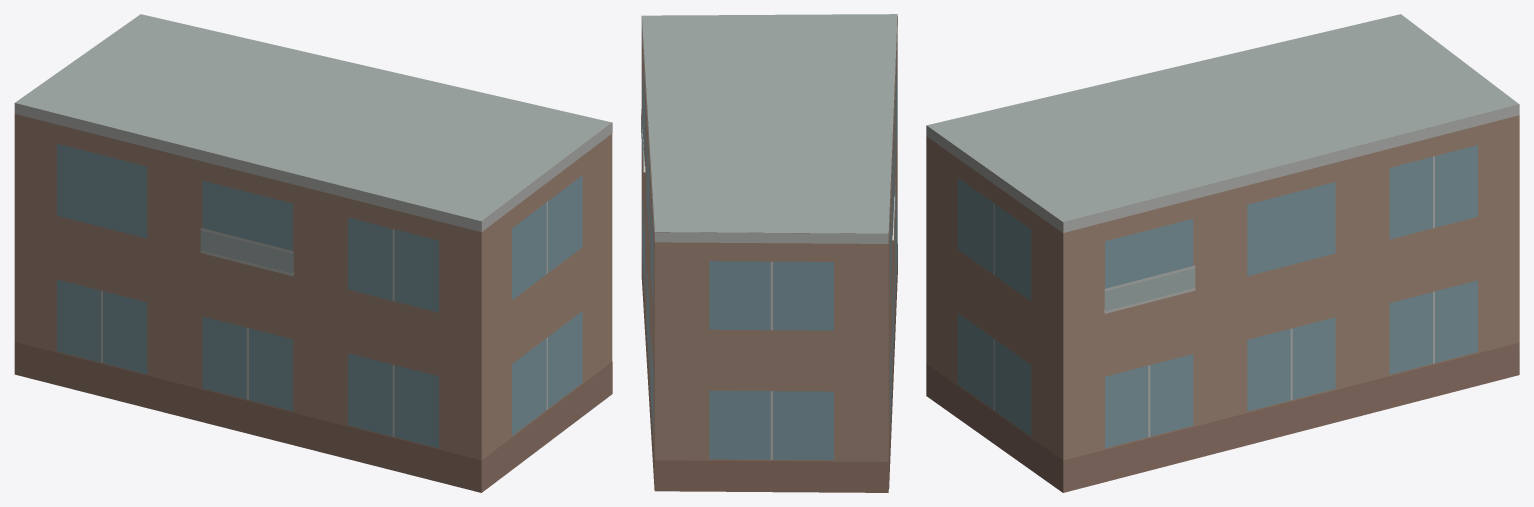
The model's file is survey-upis-32518766.glb.
3 renders of one model, left to right at view 1: azimuth 30°, elevation 25°; view 2: azimuth 150°, elevation 25°; view 3: azimuth 270°, elevation 25°, orthographic. The views are drawn at different scales.
Visible parts, largest first — view 1: survey-upis-32518766.tmp; view 2: survey-upis-32518766.tmp; view 3: survey-upis-32518766.tmp.
Boxes of the visible parts, <box> form: survey-upis-32518766.tmp: <box>14,14,612,492</box>; survey-upis-32518766.tmp: <box>641,14,897,492</box>; survey-upis-32518766.tmp: <box>926,14,1519,492</box>.
Size of the model in its own units: 10.08 by 6.1 by 12.13.
